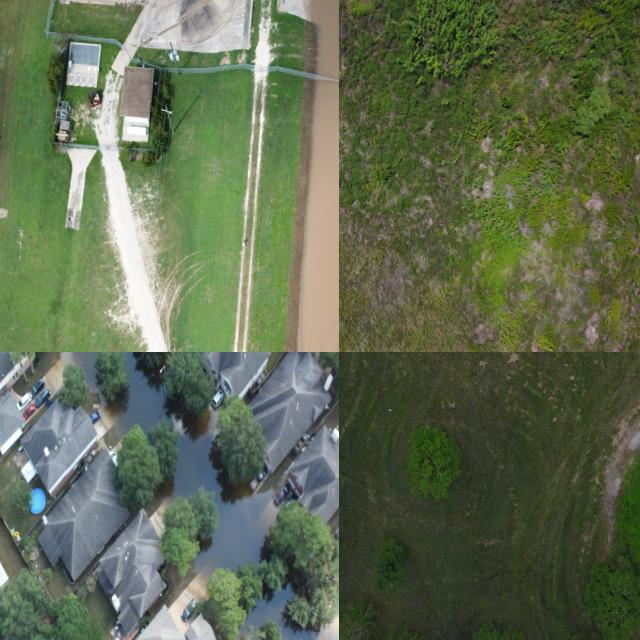fire: (172, 407, 293, 571), (114, 352, 166, 437)
